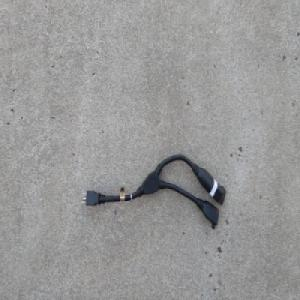Wire: (80, 153, 226, 231)
